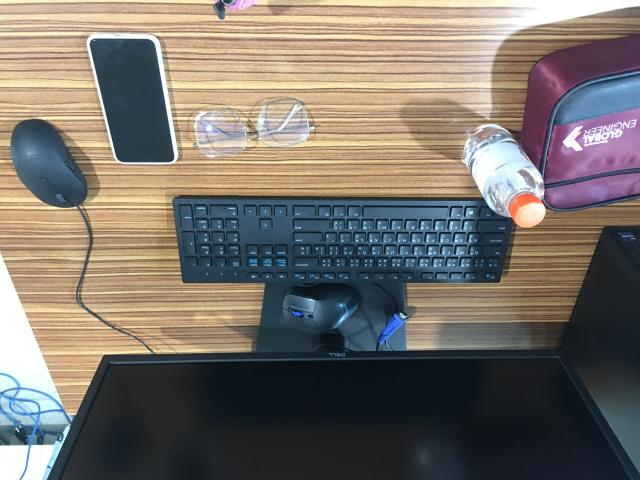Glasses: (192, 96, 316, 164)
Mobile phone: (88, 33, 184, 165)
Mouse: (8, 117, 88, 218), (284, 289, 362, 332)
bottle: (462, 124, 548, 229)
